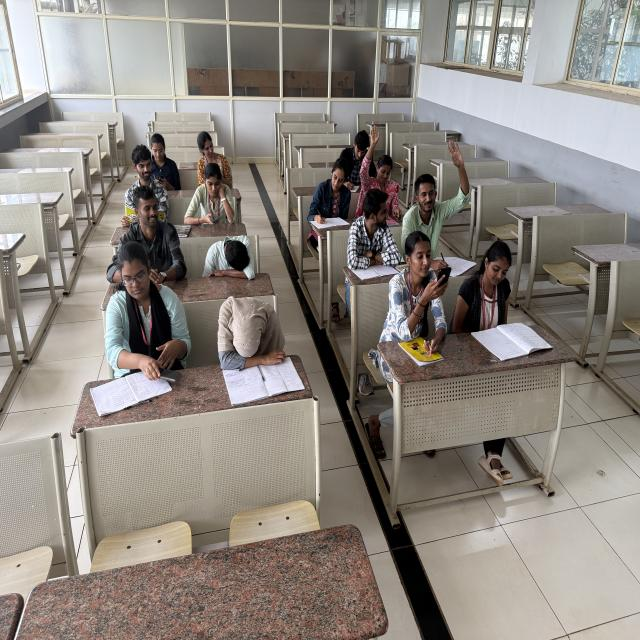Hand Rising: (402, 140, 473, 235), (360, 125, 403, 217)
Reading: (455, 238, 531, 358), (122, 140, 172, 224)
Sleeping: (207, 288, 293, 391), (202, 222, 261, 288)
Using Phone: (102, 242, 194, 400), (384, 225, 462, 356), (184, 157, 244, 238), (191, 128, 236, 190), (147, 129, 183, 191)
Writing: (301, 151, 356, 234), (336, 130, 375, 198)
